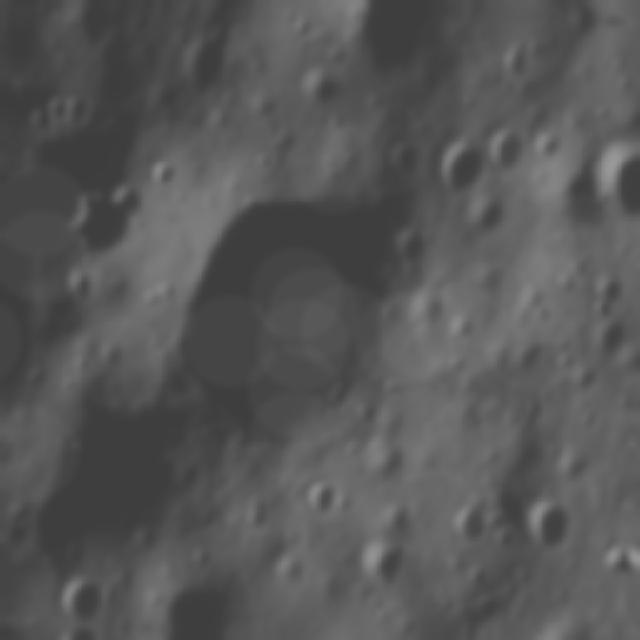crater: (157, 174, 425, 448), (338, 1, 452, 85), (67, 179, 142, 264), (584, 122, 640, 233), (157, 574, 241, 634), (518, 488, 578, 558), (548, 164, 598, 239), (354, 534, 412, 597), (440, 141, 486, 208), (444, 495, 491, 556), (60, 573, 109, 625), (303, 478, 345, 524), (490, 130, 527, 178), (378, 504, 417, 538), (144, 159, 178, 196), (24, 107, 58, 141), (61, 93, 90, 132), (598, 547, 624, 579), (586, 18, 636, 34)
